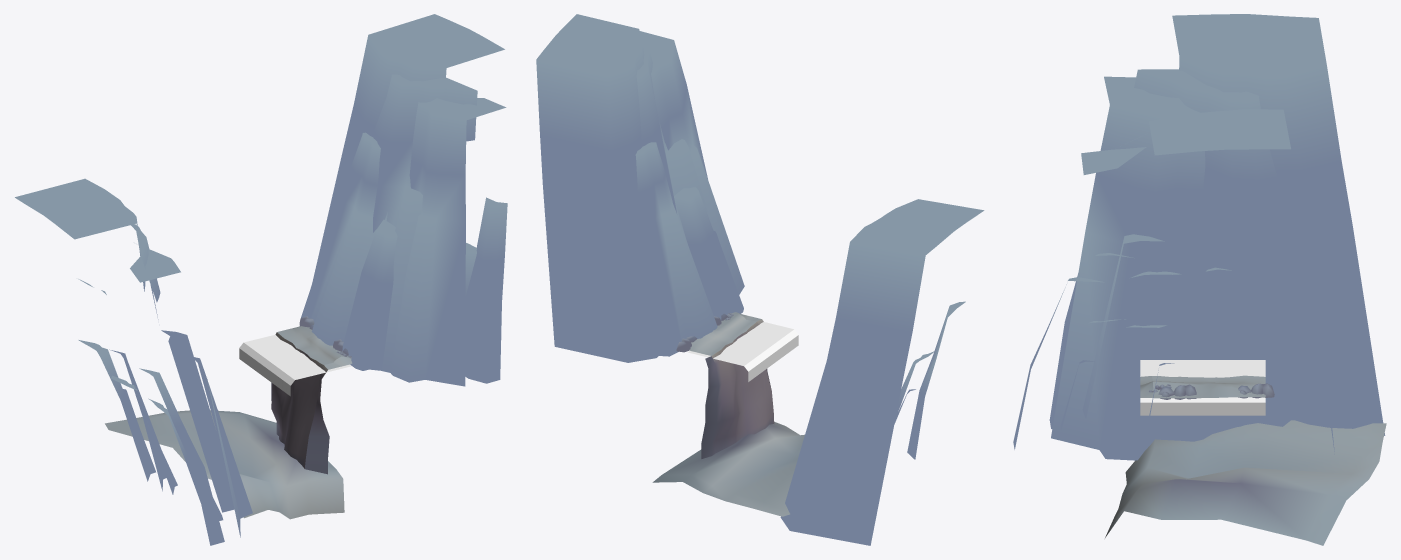
The model's file is Arctic_Narrows_Left_Straight_Short_B.glb.
The picture shows the model from 3 angles, left to right: view 1: azimuth 30°, elevation 25°; view 2: azimuth 150°, elevation 25°; view 3: azimuth 270°, elevation 25°; orthographic projection. The views are drawn at different scales.
Visible parts, largest first — view 1: Arctic_Narrows_Left_Straight_Short_A, inv_fill; view 2: Arctic_Narrows_Left_Straight_Short_A, inv_fill; view 3: Arctic_Narrows_Left_Straight_Short_A, inv_fill.
Boxes of the visible parts, x1,y1,x2,y2 form: Arctic_Narrows_Left_Straight_Short_A: (15, 14, 507, 545); inv_fill: (239, 334, 351, 396); Arctic_Narrows_Left_Straight_Short_A: (536, 14, 984, 545); inv_fill: (688, 322, 798, 381); Arctic_Narrows_Left_Straight_Short_A: (1013, 14, 1386, 545); inv_fill: (1140, 360, 1265, 415).
Size of what is drawn, in the model's own units: 23.75 by 21.69 by 14.89.
